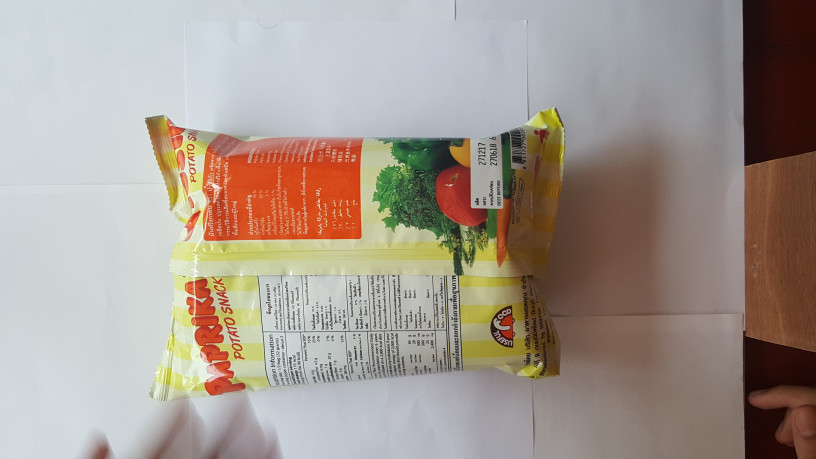paprika: (124, 95, 569, 388)
